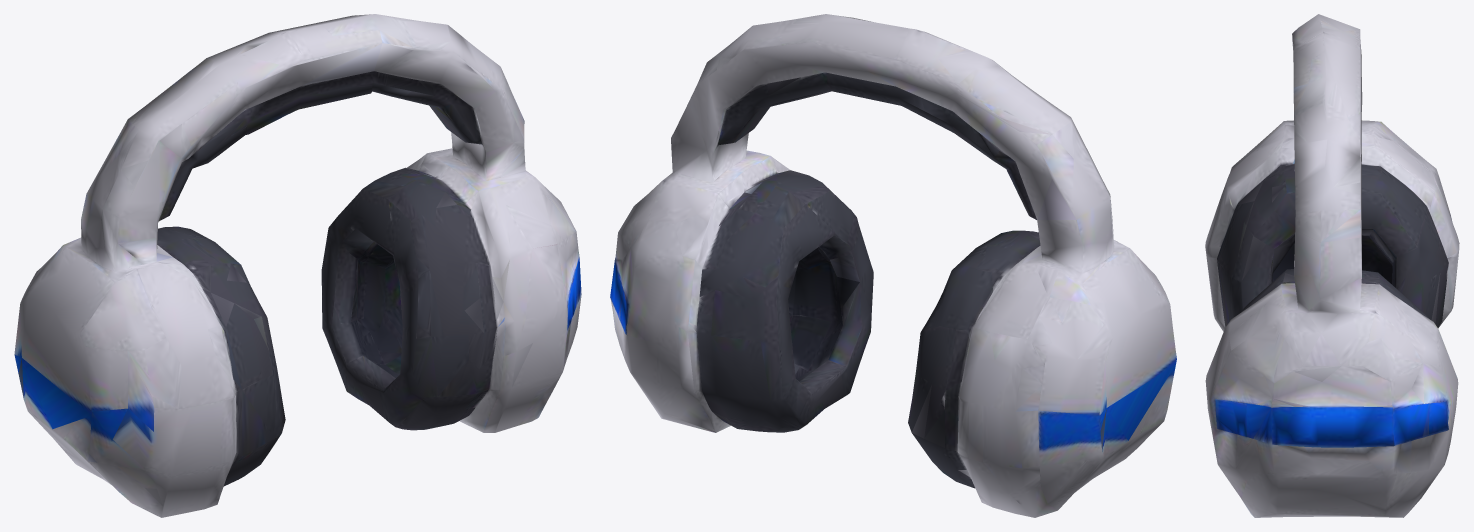
File: aki_headphones.glb
3 renders of one model, left to right at view 1: azimuth 30°, elevation 25°; view 2: azimuth 150°, elevation 25°; view 3: azimuth 270°, elevation 25°, orthographic. The views are drawn at different scales.
Parts seen in each view (by area): view 1: node_0; view 2: node_0; view 3: node_0.
Boxes of the visible parts, x1,y1,x2,y2 form: node_0: [14, 14, 581, 517]; node_0: [610, 14, 1176, 517]; node_0: [1205, 14, 1459, 517].
Size of the model in its own units: 0.9989 by 0.8269 by 0.4671.
Materials: 1 (1 with a texture image).
